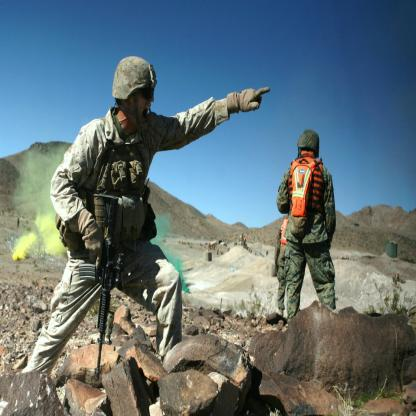Helmet: (109, 53, 156, 135), (298, 128, 322, 158)
